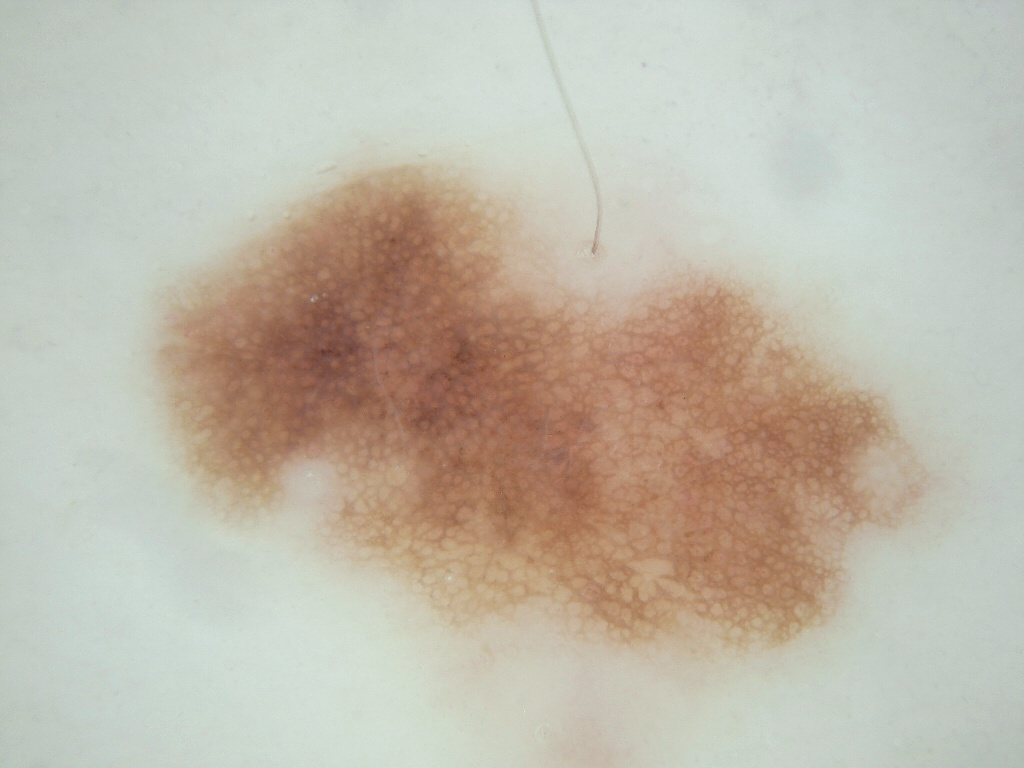Detected Lesion: (141, 152, 933, 671)
